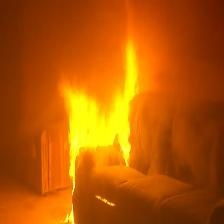fire: (51, 35, 162, 212)
